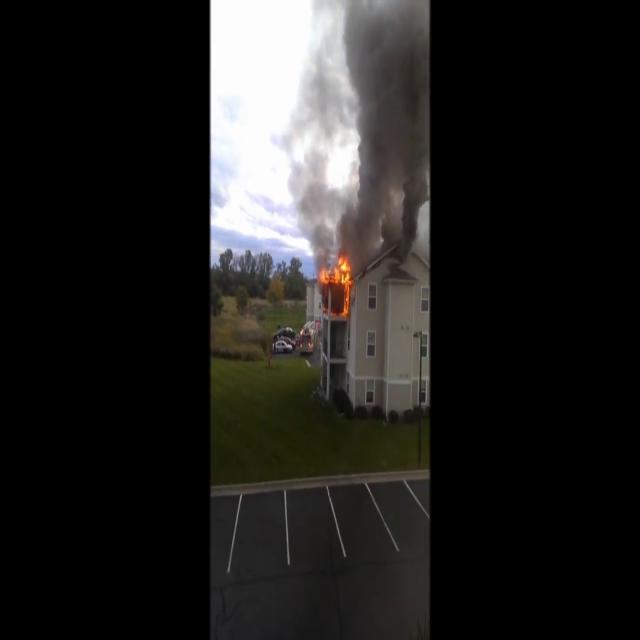Fire: (320, 251, 354, 315)
Smoke: (282, 0, 430, 254)
